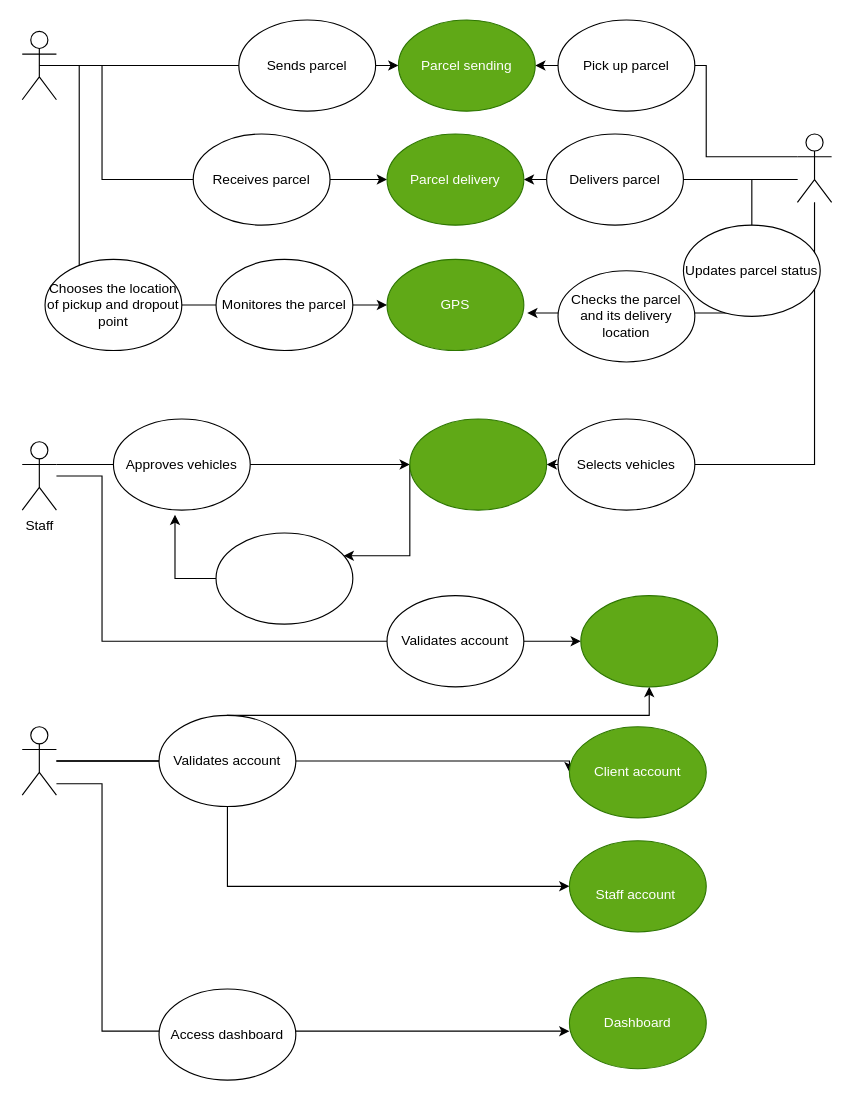
The diagram is 853 pixels wide and 1100 high, and some of its shapes have lost their labels. The shapes that lost their labels are listed below. From the top down, each one's box as (x1, y1, x2, y2) in pixels, then its label:
(21, 30, 56, 100): Client
(796, 133, 832, 202): Curier
(409, 418, 547, 510): Vehicle
(215, 532, 353, 624): Receives issues alerts and fixes them
(580, 595, 718, 687): Currier account
(21, 726, 56, 795): Admin
